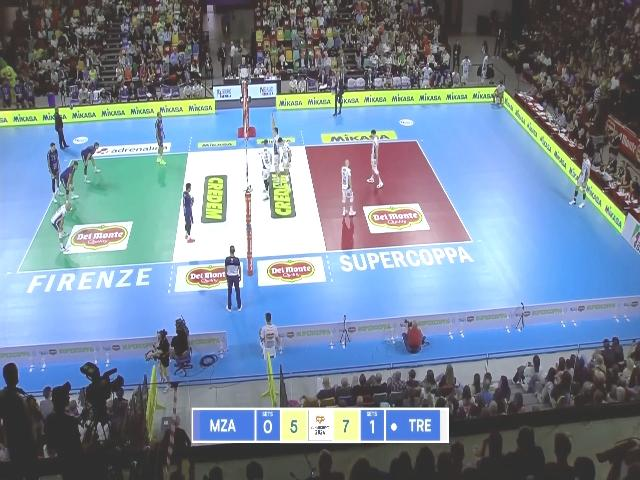volleyball court: (18, 138, 472, 283)
